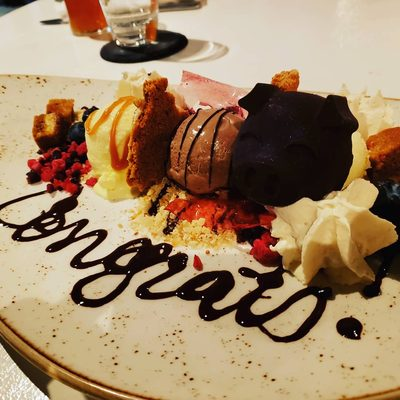pizza: (100, 0, 160, 49)
